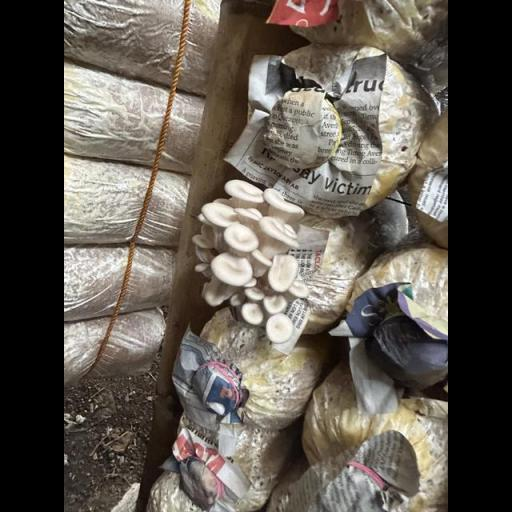White Oyster Mushroom: (184, 174, 320, 350)
